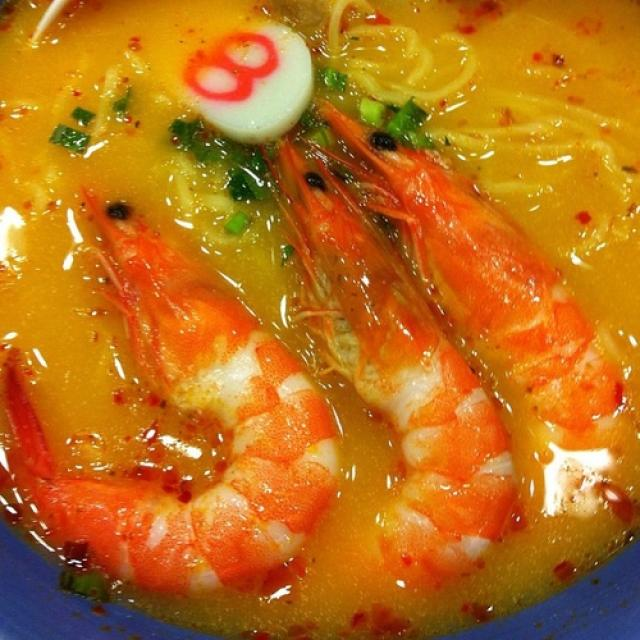汤锅炖物: (11, 18, 626, 610)
